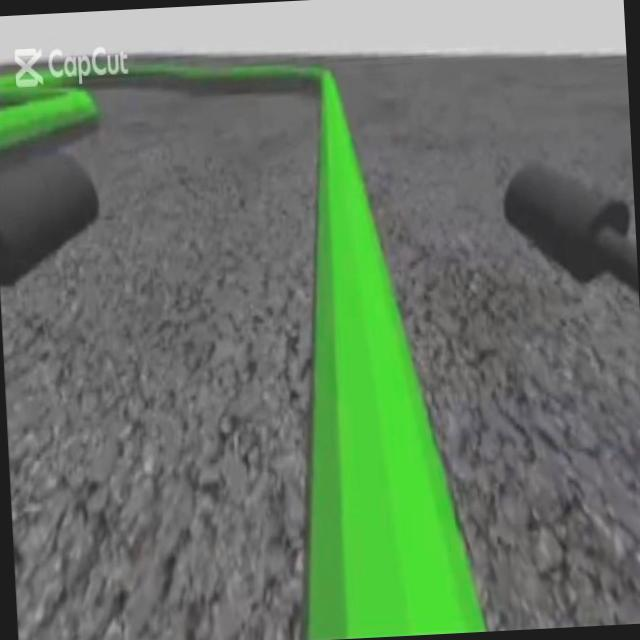gas: (280, 85, 485, 640)
